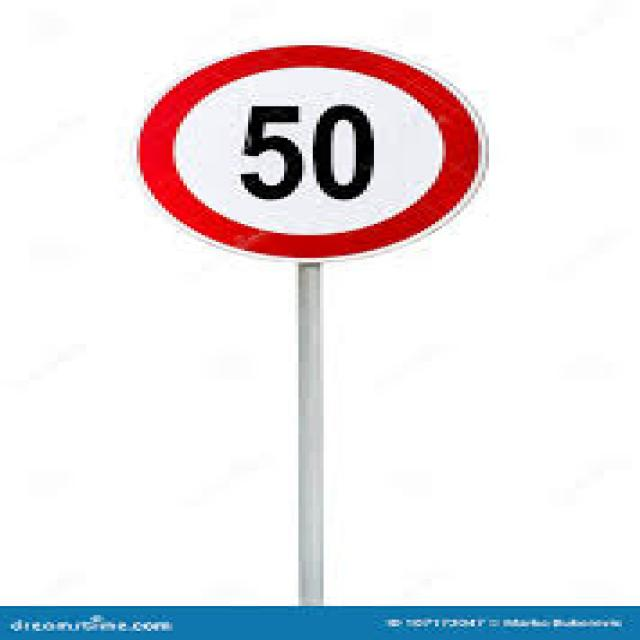Speed limit 50: (130, 42, 490, 263)
